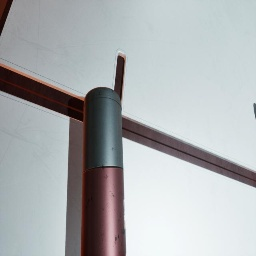NitrogenTank ,: (81, 87, 126, 256)
